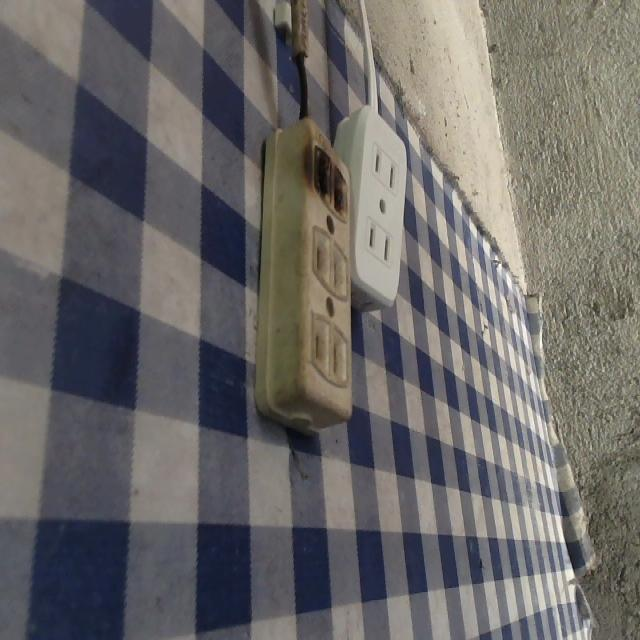-: (295, 131, 357, 225)
